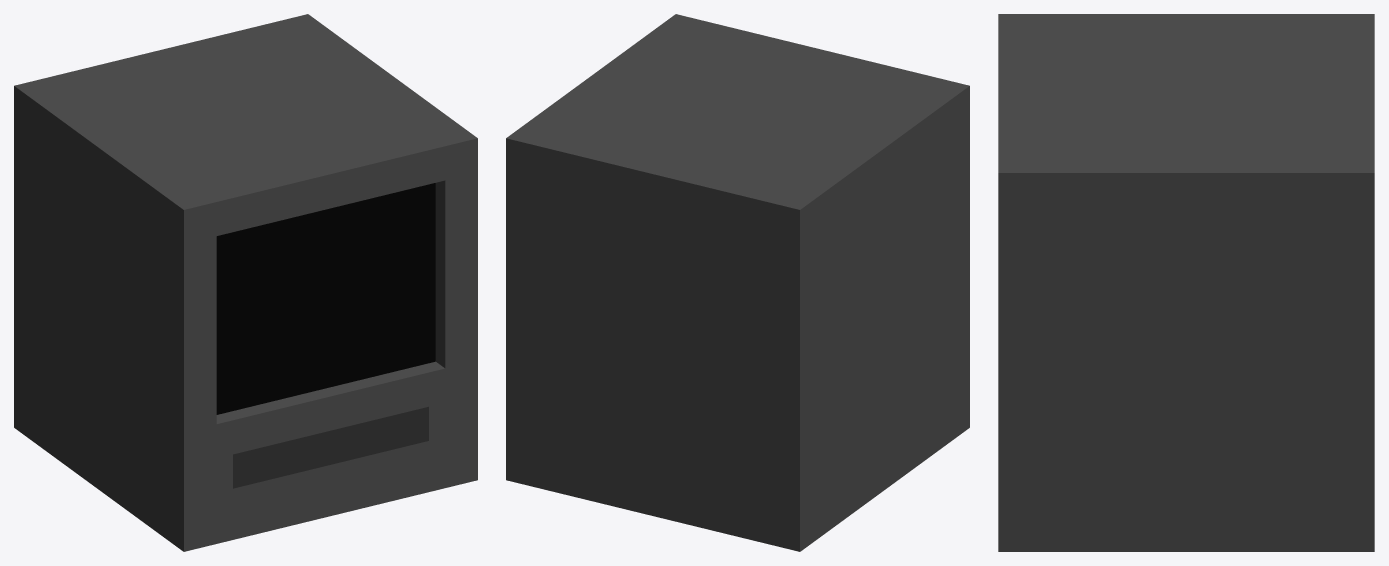
The model's file is Computer-1.obj.
3 renders of one model, left to right at view 1: azimuth 30°, elevation 25°; view 2: azimuth 150°, elevation 25°; view 3: azimuth 270°, elevation 25°, orthographic. The views are drawn at different scales.
Visible parts, largest first — view 1: Computer-1; view 2: Computer-1; view 3: Computer-1.
Boxes of the visible parts, box(x1,y1,x2,y2) form: Computer-1: box(14, 14, 477, 551); Computer-1: box(506, 14, 969, 551); Computer-1: box(998, 14, 1374, 551).
Size of the model in its own units: 18 by 20 by 18.
1 material, 1 textured.
